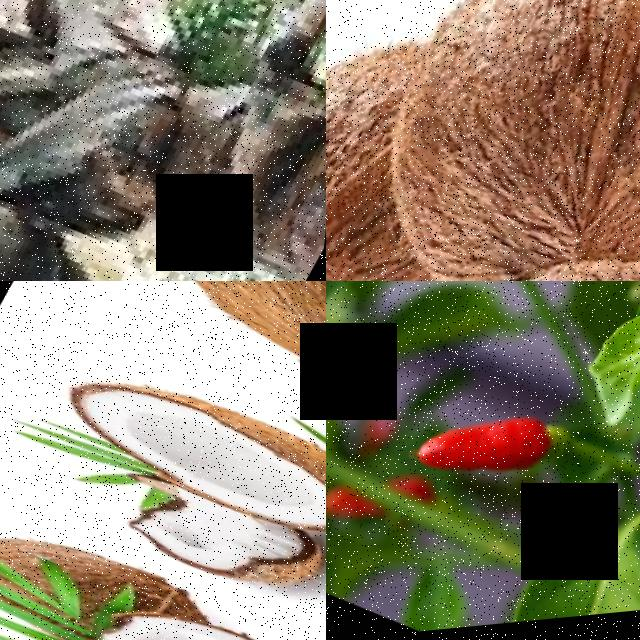chilli: (412, 375, 603, 533)
coconut: (326, 0, 640, 281), (41, 330, 326, 598), (326, 158, 605, 281), (141, 281, 326, 460), (93, 575, 326, 640)
